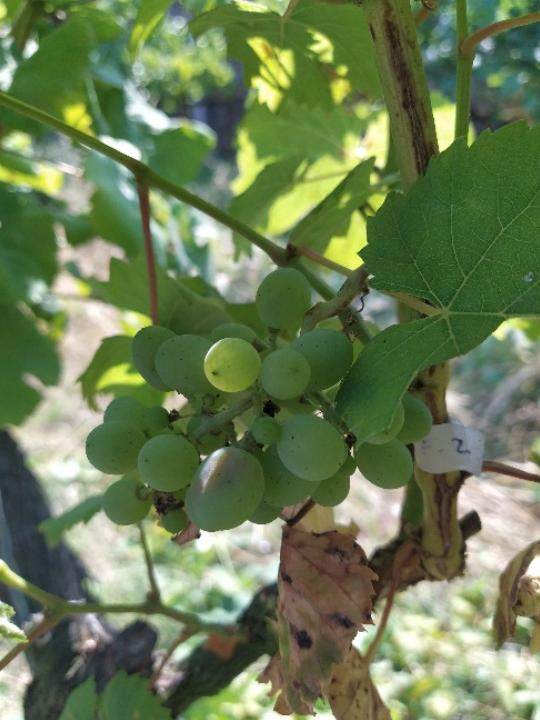grape: (79, 265, 438, 535)
